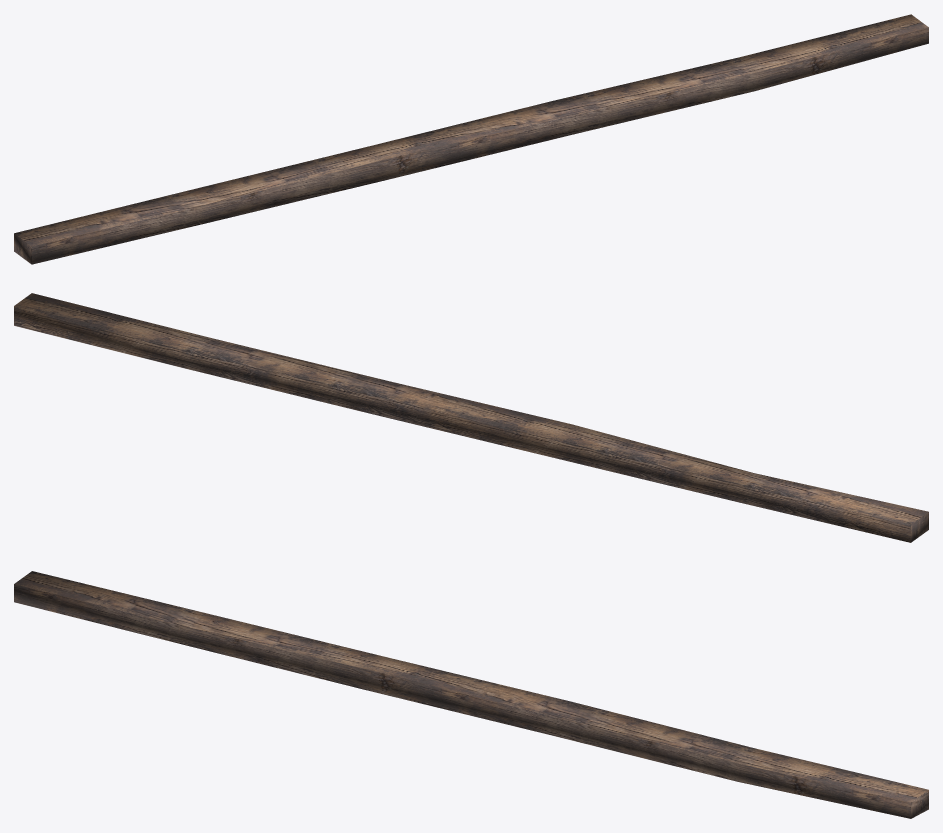
Rendered from porchFloorSupportTimber_01_LOD1.FBX.
The picture shows the model from 3 angles, top to bottom: view 1: azimuth 30°, elevation 25°; view 2: azimuth 150°, elevation 25°; view 3: azimuth 330°, elevation 25°; orthographic projection.
Parts seen in each view (by area): view 1: porchFloorSupportTimber_01_LOD1; view 2: porchFloorSupportTimber_01_LOD1; view 3: porchFloorSupportTimber_01_LOD1.
Part boxes in pixels (x1,y1,x2,y2): porchFloorSupportTimber_01_LOD1: [14, 14, 928, 264]; porchFloorSupportTimber_01_LOD1: [14, 293, 928, 542]; porchFloorSupportTimber_01_LOD1: [14, 571, 928, 818].
Size of the model in its own units: 46.45 by 1.09 by 1.7.
Materials: 1 (1 with a texture image).
